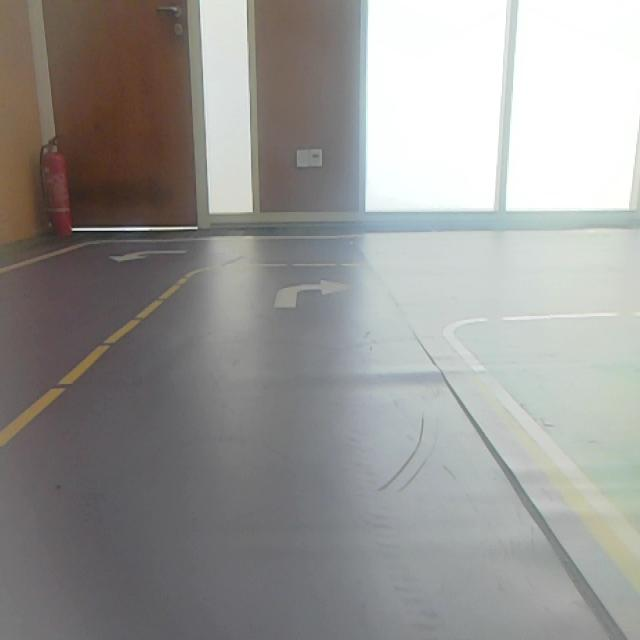left_lane: (0, 268, 194, 449)
right_lane: (445, 336, 640, 592)
